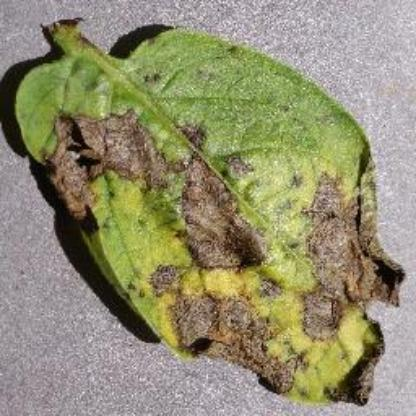Early-Blight: (12, 12, 404, 402)
